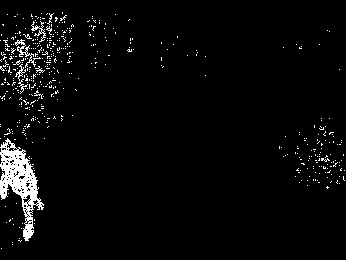person: (2, 139, 44, 240)
